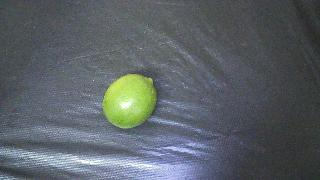LOCAL: (102, 74, 157, 129)
